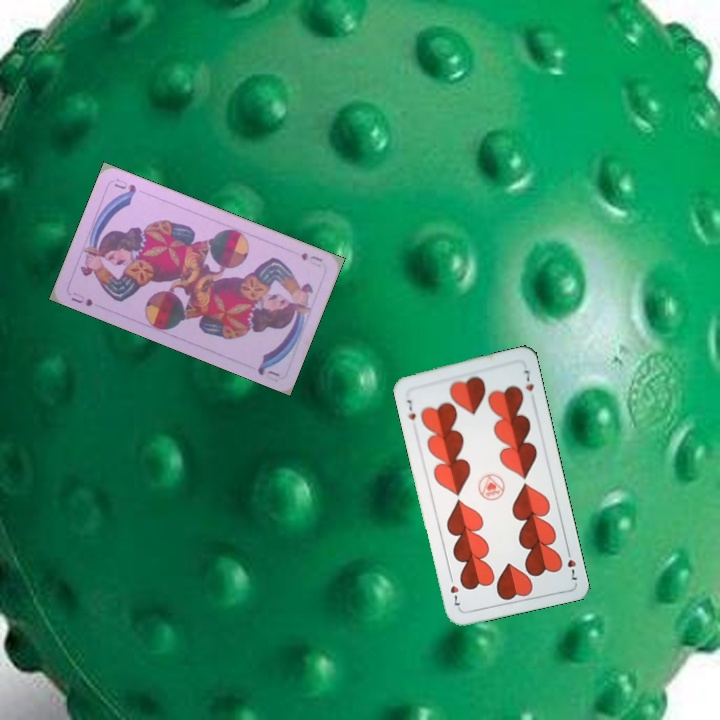H7: (563, 544, 579, 583), (403, 395, 418, 423)
SU: (297, 248, 325, 270), (67, 288, 95, 309)
